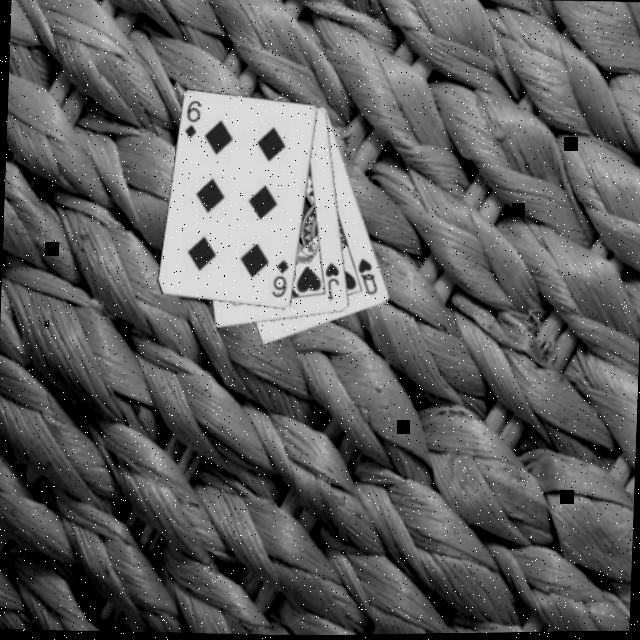6D: (180, 96, 203, 142), (268, 256, 290, 300)
JH: (321, 259, 342, 302)
QH: (353, 254, 380, 297)
